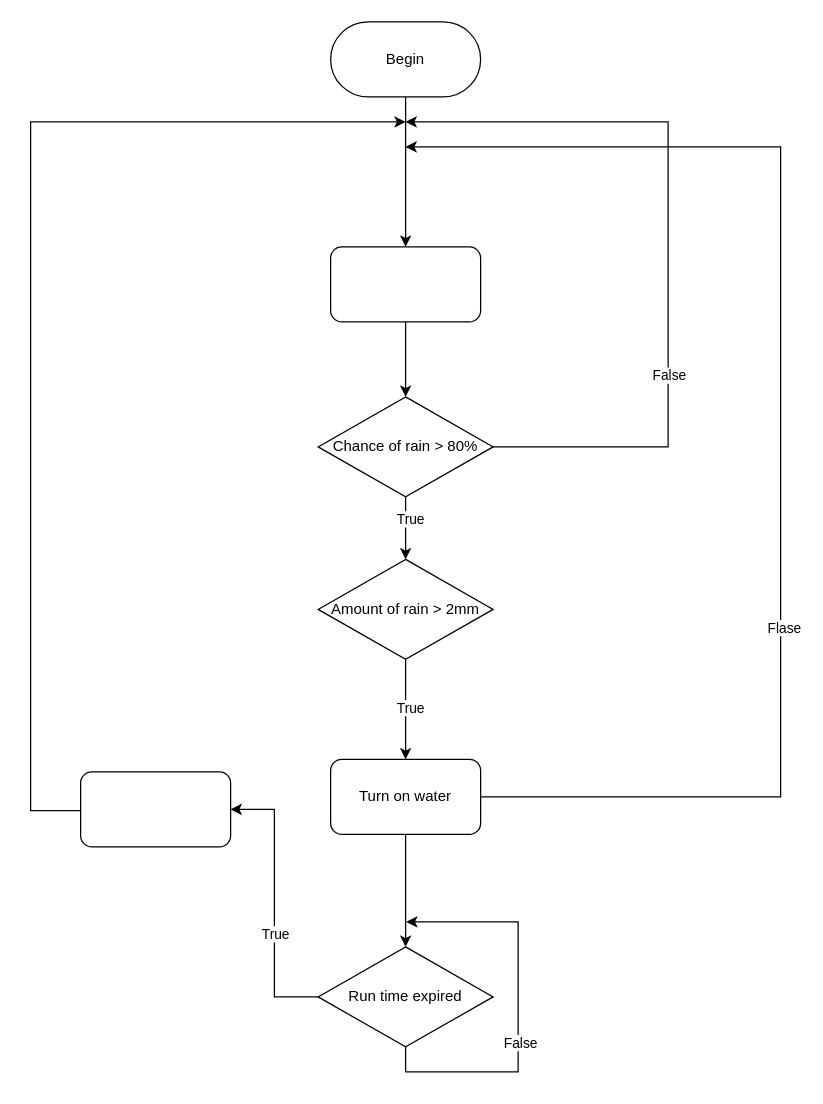
Image size: 823x1104. Some labels were removed from this diagram. Each missing label, with the box of its shape:
Read Sensor: (329, 246, 481, 322)
Turn off water: (79, 771, 231, 847)
